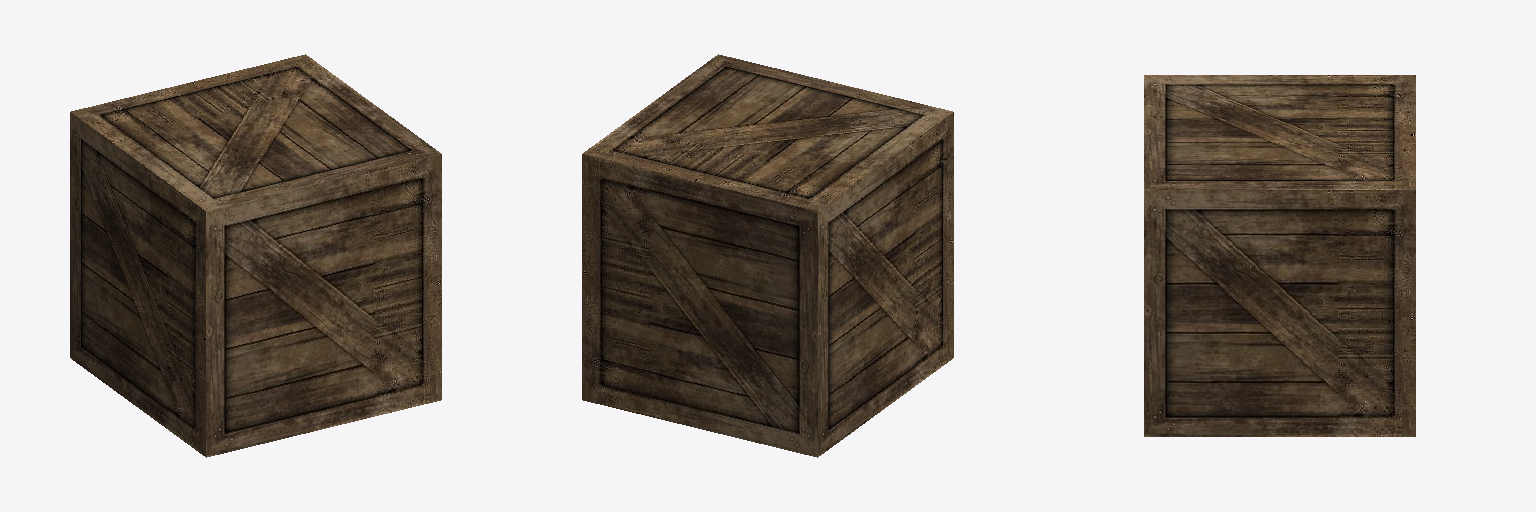
3 renders of one model, left to right at view 1: azimuth 30°, elevation 25°; view 2: azimuth 150°, elevation 25°; view 3: azimuth 270°, elevation 25°, orthographic.
Visible parts, largest first — view 1: Cube; view 2: Cube; view 3: Cube.
Boxes of the visible parts, x1=… form: Cube: x1=70, y1=54, x2=441, y2=457; Cube: x1=582, y1=54, x2=953, y2=457; Cube: x1=1144, y1=75, x2=1415, y2=436.
Size of the model in its own units: 2 by 2 by 2.
1 materials, 1 textured.